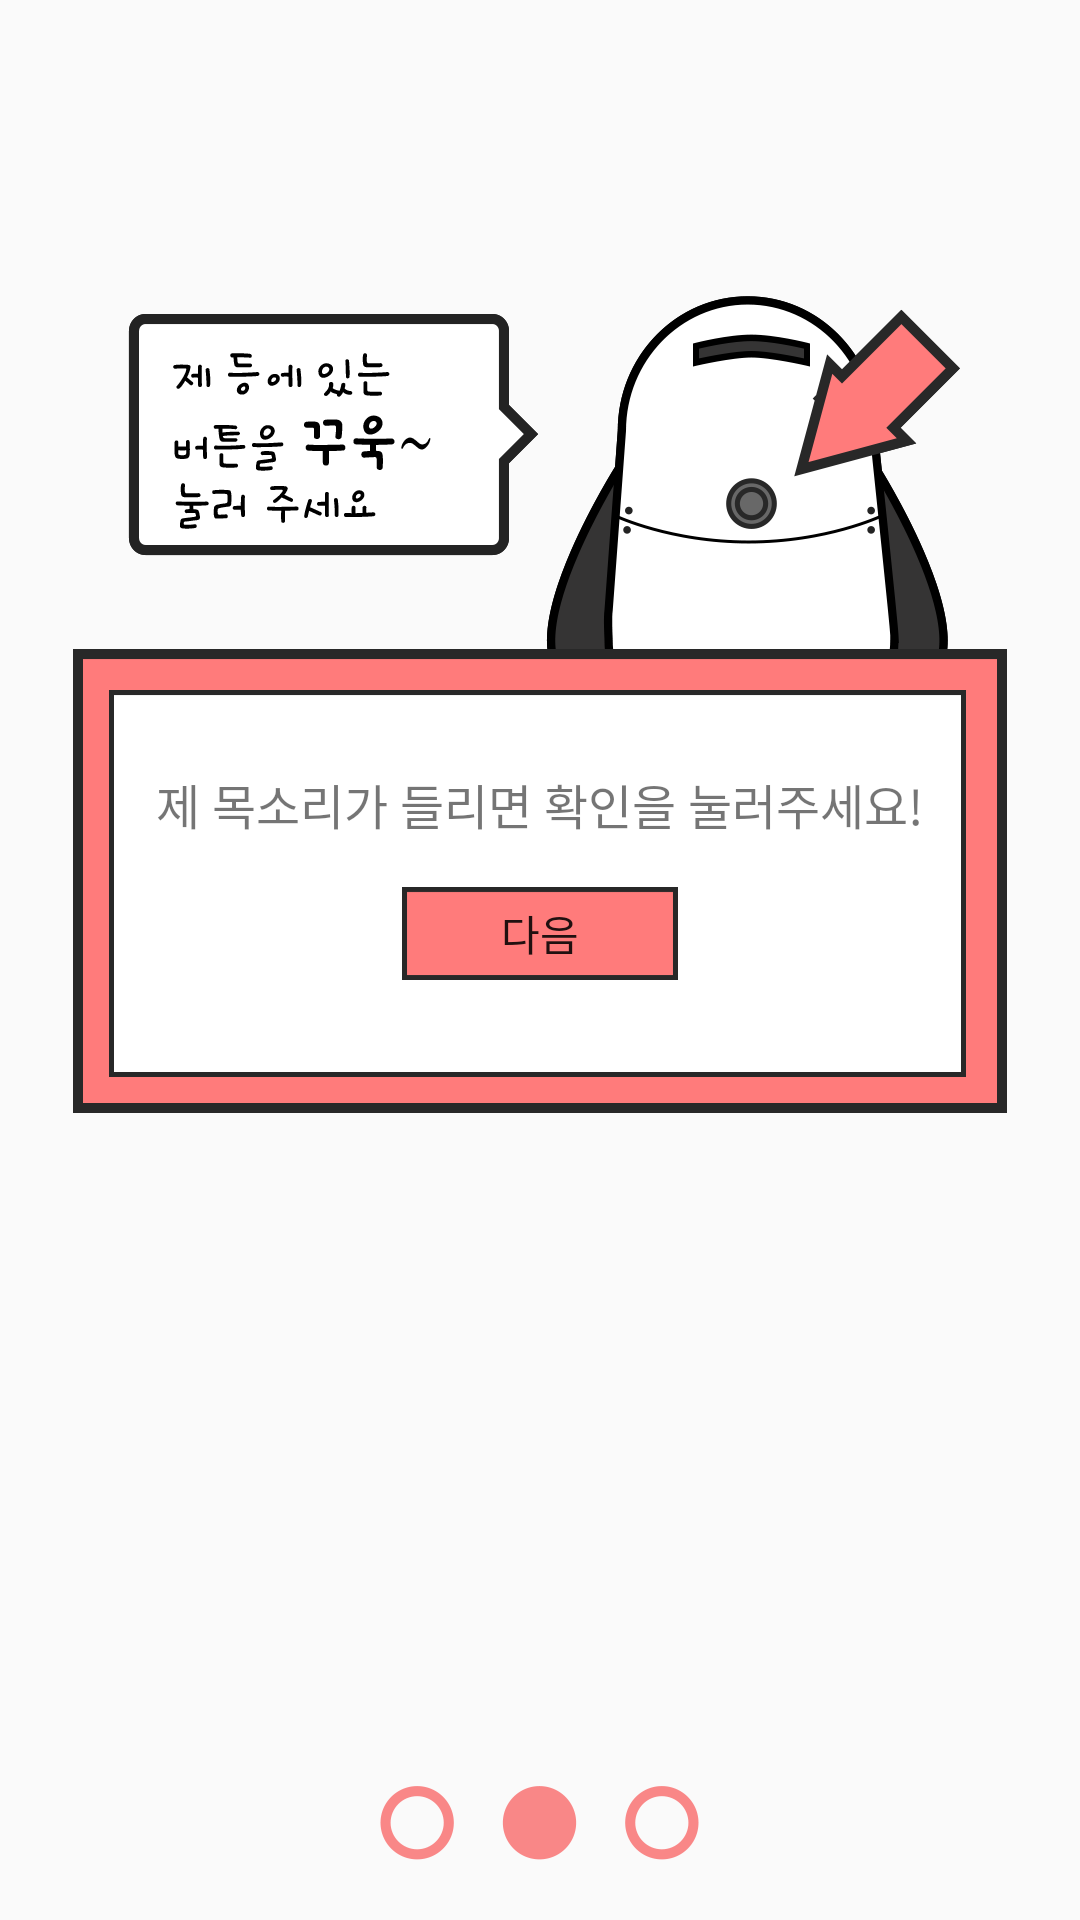

Named icons in this screenshot (1080w x 1920h) and their centers, (x=x, y=y):
index: (x=539, y=1823)
